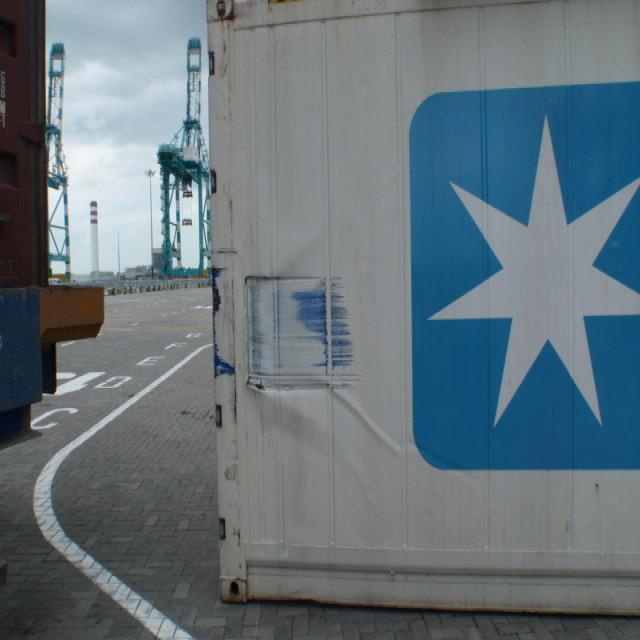dent: (330, 389, 403, 459), (263, 399, 324, 453), (412, 440, 485, 483), (346, 457, 383, 514)
